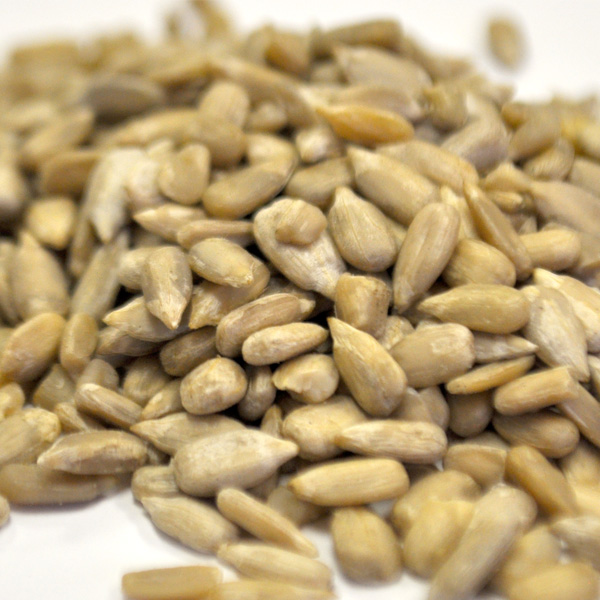seed: (1, 88, 600, 514)
